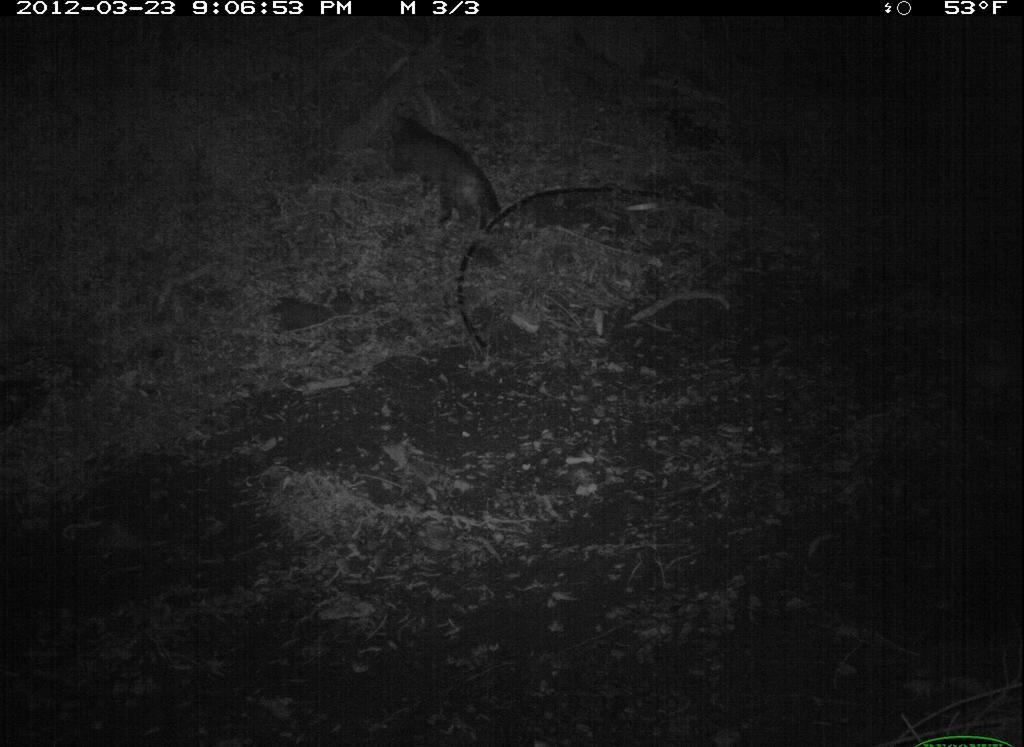cat: (381, 102, 514, 245)
